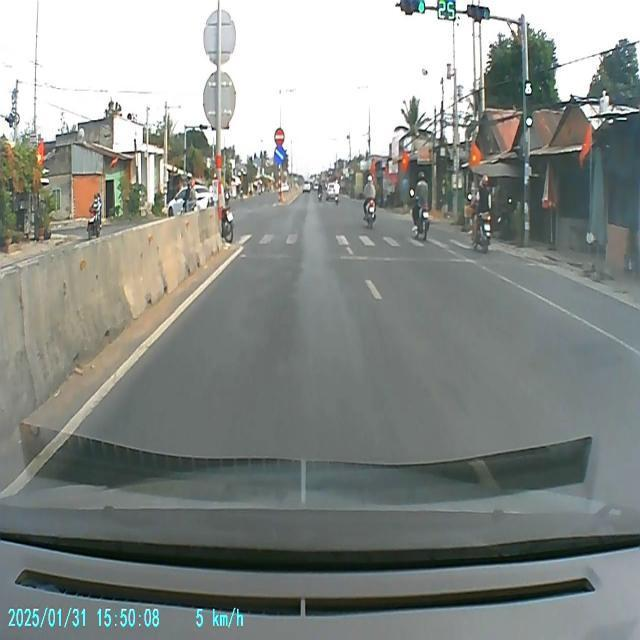102-cam-di-nguoc-chieu: (274, 127, 286, 145)
302a-huong-phai-di-vong-chuong-ngai-vat-1: (274, 147, 286, 165)
